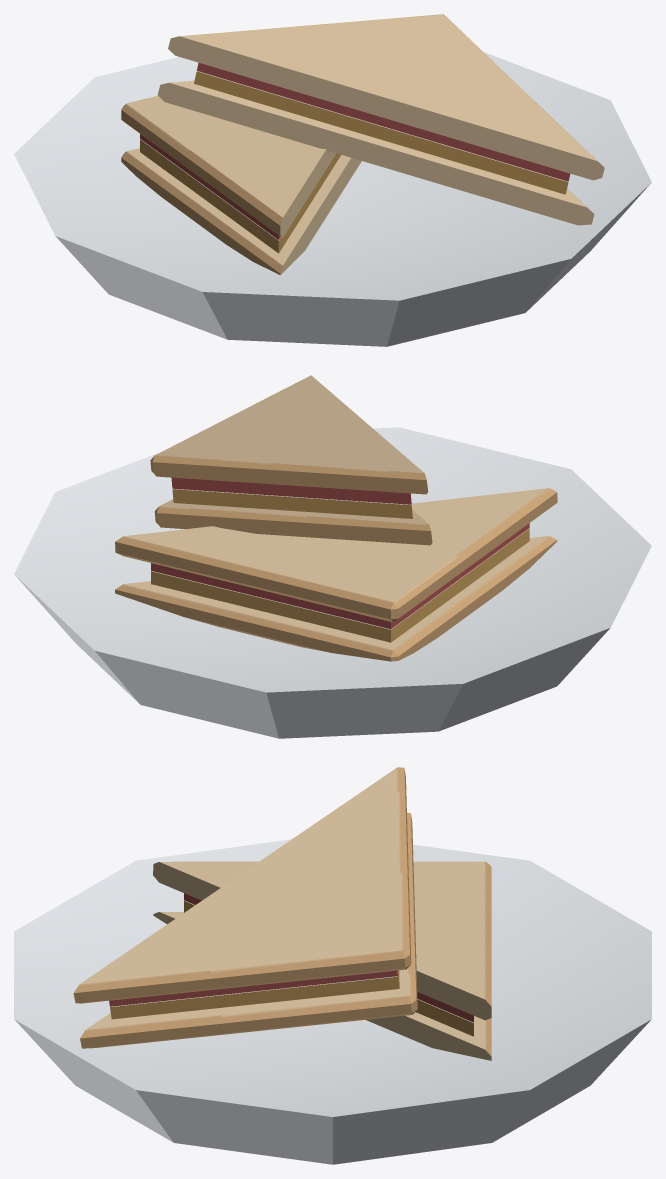
File: PBJ_sandwich.fbx
3 renders of one model, top to bottom at view 1: azimuth 30°, elevation 25°; view 2: azimuth 150°, elevation 25°; view 3: azimuth 270°, elevation 25°, orthographic. The views are drawn at different scales.
Visible parts, largest first — view 1: PBJ sandwich; view 2: PBJ sandwich; view 3: PBJ sandwich.
Boxes of the visible parts, x1,y1,x2,y2 form: PBJ sandwich: (14, 14, 651, 346); PBJ sandwich: (14, 375, 651, 738); PBJ sandwich: (14, 767, 651, 1164).
Bounding box in the file's own units: 42.72 × 15.5 × 40.63.
Materials: 1 (1 with a texture image).
